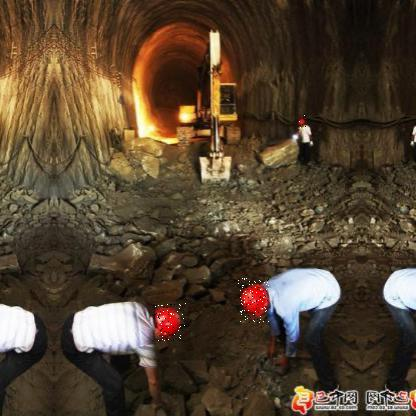safetyhelmet: (238, 278, 270, 324), (155, 302, 188, 342), (298, 114, 308, 130)
